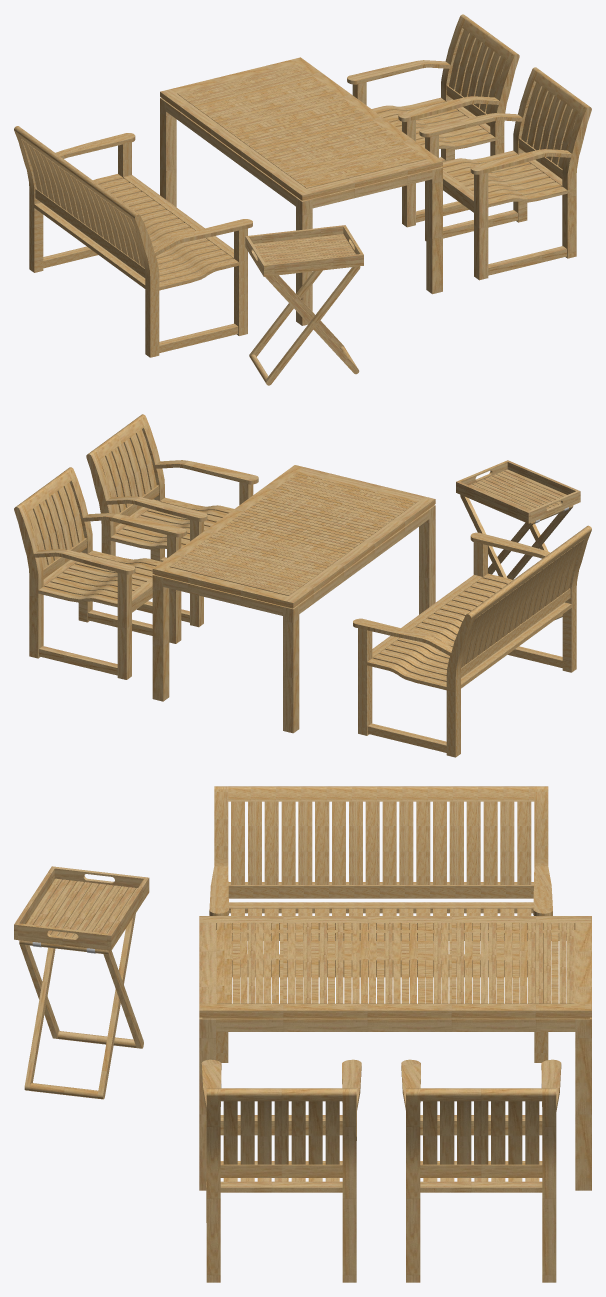
File: istana-set_nocolor.fbx
The picture shows the model from 3 angles, top to bottom: view 1: azimuth 30°, elevation 25°; view 2: azimuth 150°, elevation 25°; view 3: azimuth 270°, elevation 25°; orthographic projection. The views are drawn at different scales.
Parts seen in each view (by area): view 1: istana-set; view 2: istana-set; view 3: istana-set.
Boxes of the visible parts, x1,y1,x2,y2 form: istana-set: (14, 14, 591, 385); istana-set: (14, 414, 591, 757); istana-set: (14, 786, 591, 1282).
Bounding box in the file's own units: 258 × 79.5 × 206.
7 materials, 6 textured.
